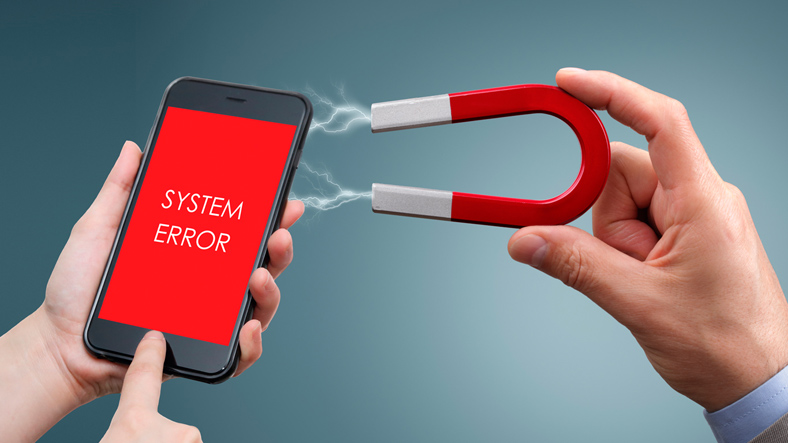phones: (70, 58, 312, 382)
